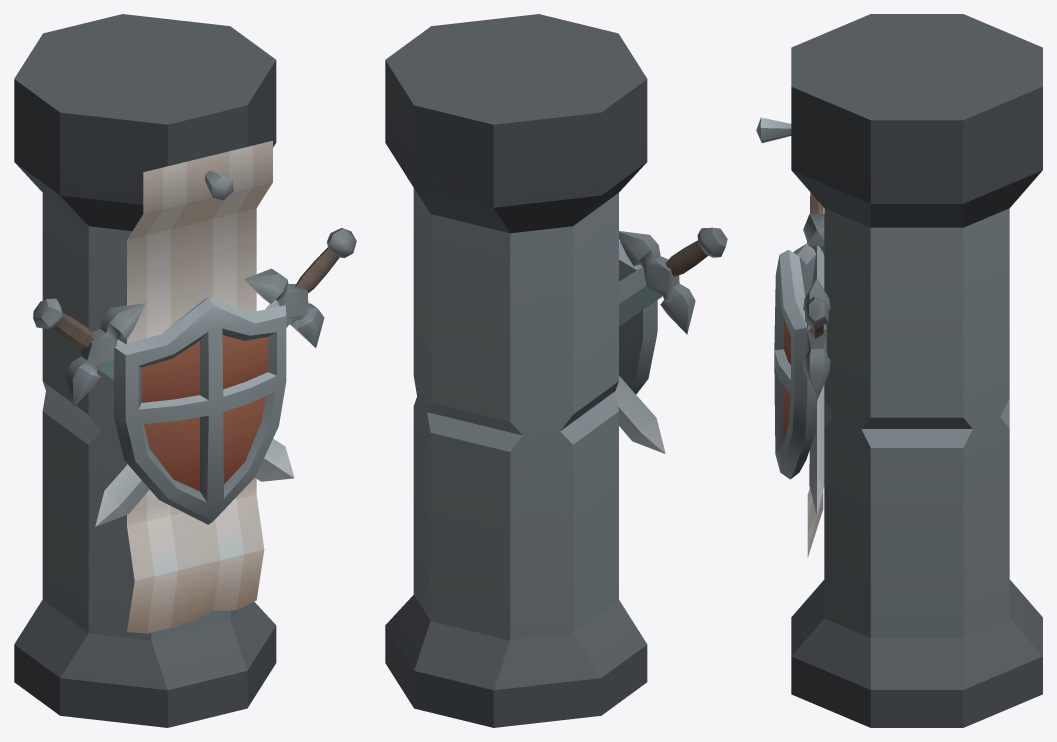
File: kay-pilar-ornado.gltf
3 renders of one model, left to right at view 1: azimuth 30°, elevation 25°; view 2: azimuth 150°, elevation 25°; view 3: azimuth 270°, elevation 25°, orthographic.
Visible parts, largest first — view 1: pillar_decorated; view 2: pillar_decorated; view 3: pillar_decorated.
Boxes of the visible parts, x1,y1,x2,y2 form: pillar_decorated: (14, 14, 356, 727); pillar_decorated: (385, 14, 727, 727); pillar_decorated: (756, 14, 1042, 727).
Size of the model in its own units: 1.45 by 2.6 by 1.11.
1 material, 1 textured.
